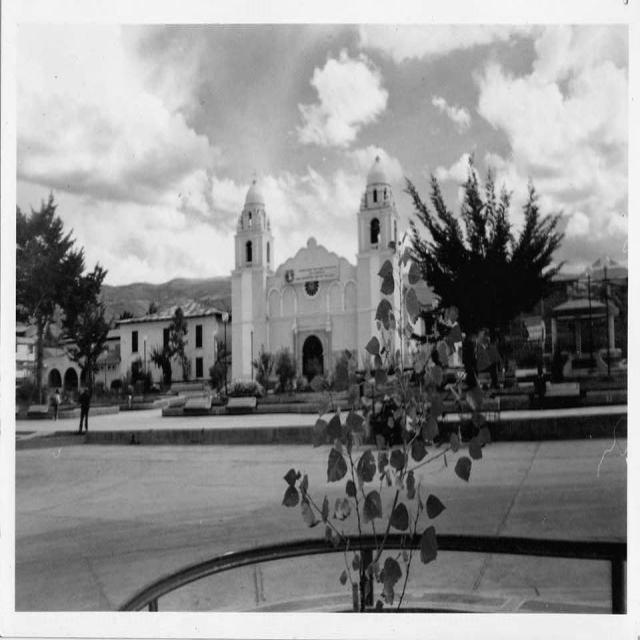CAMPANARIO: (346, 202, 422, 277), (205, 224, 293, 288)
CUPULA: (215, 177, 293, 223), (345, 155, 401, 201)
PORTADA CENTRAL: (296, 326, 334, 394)
SIMETRIA COLONIAL: (202, 154, 425, 420)
TORRES: (358, 146, 412, 404), (223, 165, 275, 412)
colonial-architecture-: (14, 143, 474, 400)
